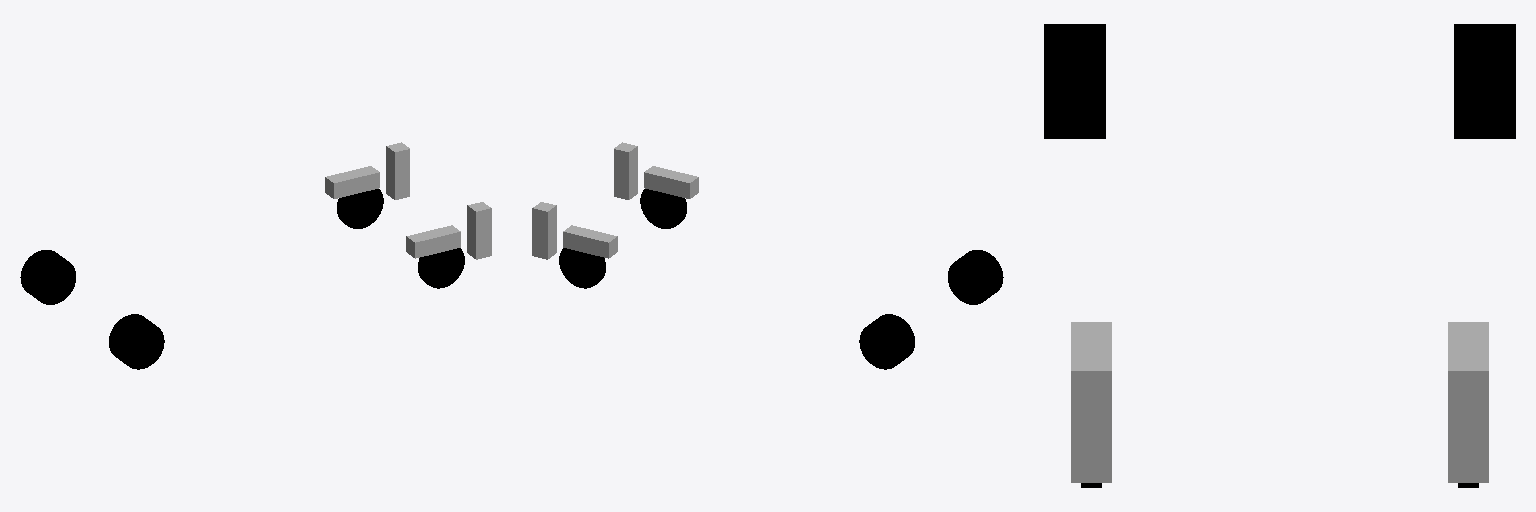
The robot description file, URDF, robot "tortoisebot":
<?xml version="1.0" ?>
<!-- =================================================================================== -->
<!-- |    This document was autogenerated by xacro from custom-backup.urdf.xacro       | -->
<!-- |    EDITING THIS FILE BY HAND IS NOT RECOMMENDED                                 | -->
<!-- =================================================================================== -->
<robot name="tortoisebot" xmlns:xacro="http://www.ros.org/wiki/xacro">
  <link name="base_link">
    <visual>
      <geometry>
        <mesh filename="golf_cart_no_wheels.dae" scale="0.001 0.001 0.001"/>
      </geometry>
      <material name="silver">
        <color rgba="0.75 0.75 0.75 1"/>
      </material>
    </visual>
    <collision>
      <box size="2.337 1.27 1.778"/>
    </collision>
    <inertial>
      <origin rpy="0 0 0" xyz="0 0 -1.6"/>
      <mass value="1.0"/>
      <inertia ixx="0.136" ixy="0" ixz="0" iyy="0.456" iyz="0" izz="0.587"/>
    </inertial>
  </link>
  <joint name="front_left_caster_joint" type="continuous">
    <!--  <limit effort="30" velocity="0.5" lower="-0.785398" upper="0.785398" />-->
    <axis xyz="0 0 1"/>
    <parent link="base_link"/>
    <child link="front_left_caster"/>
    <origin rpy="0 0 0" xyz="1.1 0.46 -0.739"/>
  </joint>
  <link name="front_left_caster">
    <visual>
      <geometry>
        <box size="0.1 0.1 0.3"/>
      </geometry>
      <material name="silver"/>
    </visual>
    <collision>
      <geometry>
        <box size="0.1 0.1 0.3"/>
      </geometry>
    </collision>
    <inertial>
      <mass value="0.1"/>
      <inertia ixx="0.00083" ixy="0" ixz="0" iyy="0.00083" iyz="0" izz="0.000167"/>
    </inertial>
  </link>
  <joint name="left_caster_to_caster_rod" type="fixed">
    <parent link="front_left_caster"/>
    <child link="front_left_caster_rod"/>
    <origin xyz="-.3 0 0"/>
  </joint>
  <link name="front_left_caster_rod">
    <visual>
      <geometry>
        <box size="0.3 0.1 0.1"/>
      </geometry>
      <material name="silver"/>
    </visual>
    <inertial>
      <mass value="0.1"/>
      <inertia ixx="0.000167" ixy="0" ixz="0" iyy="0.00083" iyz="0" izz="0.00083"/>
    </inertial>
  </link>
  <joint name="front_left_wheel_joint" type="continuous">
    <axis xyz="0 0 1"/>
    <parent link="front_left_caster_rod"/>
    <child link="front_left_wheel"/>
    <origin rpy="-1.5708 0 0" xyz="0.05 0 -.15"/>
  </joint>
  <link name="front_left_wheel">
    <visual>
      <geometry>
        <cylinder length=".05" radius="0.14"/>
      </geometry>
      <material name="black"/>
    </visual>
    <collision>
      <geometry>
        <cylinder length=".05" radius="0.14"/>
      </geometry>
      <surface>
        <friction>
          <ode>
            <mu>0.1</mu>
            <mu2>0.1</mu2>
          </ode>
        </friction>
      </surface>
    </collision>
    <inertial>
      <mass value="0.1"/>
      <inertia ixx="5.1458e-5" ixy="0" ixz="0" iyy="5.1458e-5" iyz="0" izz="6.125e-5"/>
    </inertial>
  </link>
  <joint name="front_caster_joint" type="continuous">
    <!--  <limit effort="30" velocity="0.5" lower="-0.785398" upper="0.785398" />-->
    <axis xyz="0 0 1"/>
    <parent link="base_link"/>
    <child link="front_caster"/>
    <origin rpy="0 0 0" xyz="1.1 -0.46 -0.739"/>
  </joint>
  <link name="front_caster">
    <visual>
      <geometry>
        <box size="0.1 0.1 0.3"/>
      </geometry>
      <material name="silver"/>
    </visual>
    <collision>
      <geometry>
        <box size="0.1 0.1 0.3"/>
      </geometry>
    </collision>
    <inertial>
      <mass value="0.1"/>
      <inertia ixx="0.00083" ixy="0" ixz="0" iyy="0.00083" iyz="0" izz="0.000167"/>
    </inertial>
  </link>
  <joint name="caster_to_caster_rod" type="fixed">
    <parent link="front_caster"/>
    <child link="front_caster_rod"/>
    <origin xyz="-.3 0 0"/>
  </joint>
  <link name="front_caster_rod">
    <visual>
      <geometry>
        <box size="0.3 0.1 0.1"/>
      </geometry>
      <material name="silver"/>
    </visual>
    <inertial>
      <mass value="0.1"/>
      <inertia ixx="0.000167" ixy="0" ixz="0" iyy="0.00083" iyz="0" izz="0.00083"/>
    </inertial>
  </link>
  <joint name="front_wheel_joint" type="continuous">
    <axis xyz="0 0 1"/>
    <parent link="front_caster_rod"/>
    <child link="front_wheel"/>
    <origin rpy="-1.5708 0 0" xyz="0.05 0 -.15"/>
  </joint>
  <link name="front_wheel">
    <visual>
      <geometry>
        <cylinder length=".05" radius="0.14"/>
      </geometry>
      <material name="black"/>
    </visual>
    <collision>
      <geometry>
        <cylinder length=".05" radius="0.14"/>
      </geometry>
      <surface>
        <friction>
          <ode>
            <mu>0.1</mu>
            <mu2>0.1</mu2>
          </ode>
        </friction>
      </surface>
    </collision>
    <inertial>
      <mass value="0.1"/>
      <inertia ixx="5.1458e-5" ixy="0" ixz="0" iyy="5.1458e-5" iyz="0" izz="6.125e-5"/>
    </inertial>
  </link>
  <link name="right_wheel">
    <visual>
      <geometry>
        <cylinder length="0.15" radius="0.14"/>
      </geometry>
      <material name="black">
        <color rgba="0 0 0 1"/>
      </material>
    </visual>
    <collision>
      <geometry>
        <cylinder length="0.15" radius="0.14"/>
      </geometry>
      <friction>
        <ode>
          <mu>1.00</mu>
          <mu2>1.00</mu2>
        </ode>
      </friction>
    </collision>
    <inertial>
      <mass value="0.1"/>
      <inertia ixx="5.1458e-5" ixy="0" ixz="0" iyy="5.1458e-5" iyz="0" izz="6.125e-5"/>
    </inertial>
  </link>
  <joint name="right_wheel_joint" type="continuous">
    <axis xyz="0 0 1"/>
    <parent link="base_link"/>
    <child link="right_wheel"/>
    <origin rpy="-1.5708 0 0" xyz="-1.1685 -0.5 -0.889"/>
  </joint>
  <link name="left_wheel">
    <visual>
      <geometry>
        <cylinder length="0.15" radius="0.14"/>
      </geometry>
      <material name="black"/>
    </visual>
    <collision>
      <geometry>
        <cylinder length="0.15" radius="0.14"/>
      </geometry>
      <friction>
        <ode>
          <mu>1.00</mu>
          <mu2>1.00</mu2>
        </ode>
      </friction>
    </collision>
    <inertial>
      <mass value="0.1"/>
      <inertia ixx="5.1458e-5" ixy="0" ixz="0" iyy="5.1458e-5" iyz="0" izz="6.125e-5"/>
    </inertial>
  </link>
  <joint name="left_wheel_joint" type="continuous">
    <axis xyz="0 0 1"/>
    <parent link="base_link"/>
    <child link="left_wheel"/>
    <origin rpy="-1.5708 0 0" xyz="-1.1685 0.5 -0.889"/>
  </joint>
  


  xacro:include filename=&quot;[local-path]/Autonomous-Navigation/catkin_ws/src/velodyne_lidar/velodyne_description/urdf/VLP-16.urdf.xacro&quot;/&gt;
  
  <VLP-16 hz="10" name="velodyne" parent="base_link" samples="440" topic="/velodyne_points">
    <origin rpy="0 0 0" xyz="0 0 0.889"/>
  </VLP-16>
  <gazebo>
    <plugin filename="libgazebo_ros_diff_drive.so" name="differential_drive_controller">
      <leftJoint>left_wheel_joint</leftJoint>
      <rightJoint>right_wheel_joint</rightJoint>
      <robotBaseFrame>base_link</robotBaseFrame>
      <wheelSeparation>1.0</wheelSeparation>
      <wheelDiameter>0.28</wheelDiameter>
      <wheelTorque>1.0</wheelTorque>
      <publishWheelJointState>true</publishWheelJointState>
      <legacyMode>false</legacyMode>
    </plugin>
  </gazebo>
  <gazebo>
    <plugin filename="libgazebo_ros_joint_state_publisher.so" name="joint_state_publisher">
      <jointName>front_caster_joint, front_wheel_joint, front_left_caster_joint, front_left_wheel_joint</jointName>
    </plugin>
  </gazebo>
</robot>

--- What the picture shows (computed from the rendered views, not written in the file) ---
Views: 3 orthographic renders of the robot side by side, from view 1: azimuth 30°, elevation 25°; view 2: azimuth 150°, elevation 25°; view 3: azimuth 270°, elevation 25°.
Robot: tortoisebot — 9 links, 8 joints (6 continuous, 2 fixed); root link base_link; default pose: every joint at zero.
Links seen in each view (by area): view 1: right_wheel, left_wheel, front_wheel, front_left_wheel, front_caster, front_left_caster, front_left_caster_rod, front_caster_rod; view 2: left_wheel, right_wheel, front_left_wheel, front_wheel, front_left_caster, front_caster, front_caster_rod, front_left_caster_rod; view 3: right_wheel, left_wheel, front_left_caster, front_caster, front_left_caster_rod, front_caster_rod.
Link boxes in pixels (x1,y1,x2,y2): right_wheel: [109, 314, 164, 369]; left_wheel: [20, 250, 75, 304]; front_wheel: [418, 248, 464, 288]; front_left_wheel: [337, 189, 383, 228]; front_caster: [467, 202, 491, 259]; front_left_caster: [386, 142, 409, 199]; front_left_caster_rod: [325, 166, 379, 198]; front_caster_rod: [406, 225, 460, 258]; left_wheel: [859, 314, 914, 369]; right_wheel: [948, 250, 1003, 304]; front_left_wheel: [559, 248, 605, 288]; front_wheel: [640, 189, 686, 228]; front_left_caster: [532, 202, 556, 259]; front_caster: [614, 142, 637, 199]; front_caster_rod: [644, 166, 698, 198]; front_left_caster_rod: [563, 225, 617, 258]; right_wheel: [1044, 24, 1105, 138]; left_wheel: [1454, 24, 1515, 138]; front_left_caster: [1448, 354, 1488, 482]; front_caster: [1071, 354, 1111, 482]; front_left_caster_rod: [1448, 322, 1488, 353]; front_caster_rod: [1071, 322, 1111, 353].
Size in the robot's own frame: 2.46 by 1.15 by 0.44 metres.
0 mesh visuals loaded from 1 distinct referenced files (none loaded); not drawn: 1 (file found but could not be loaded).